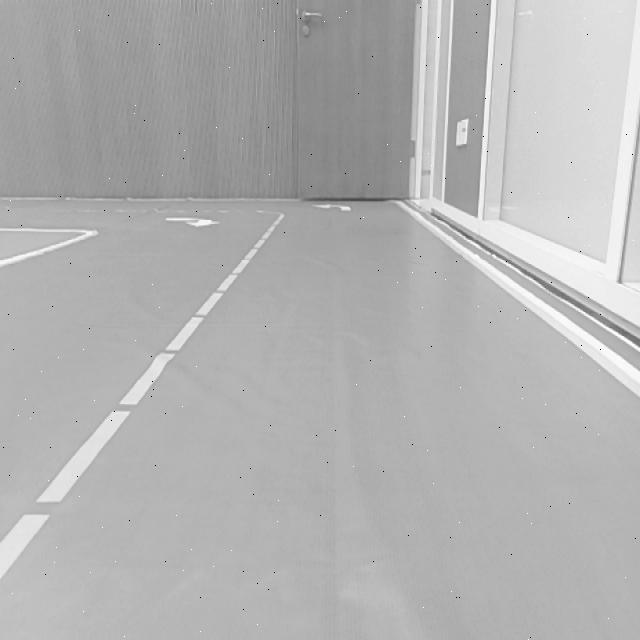left_lane: (0, 214, 284, 579)
right_lane: (399, 201, 640, 398)
